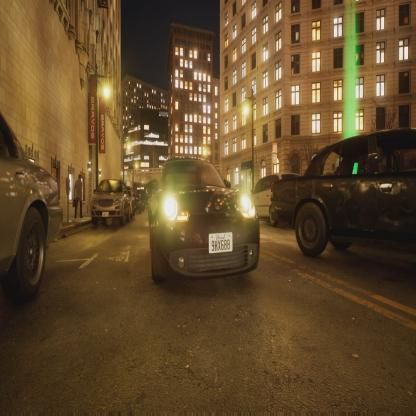License-Plate: (204, 225, 236, 258), (100, 208, 110, 221)
